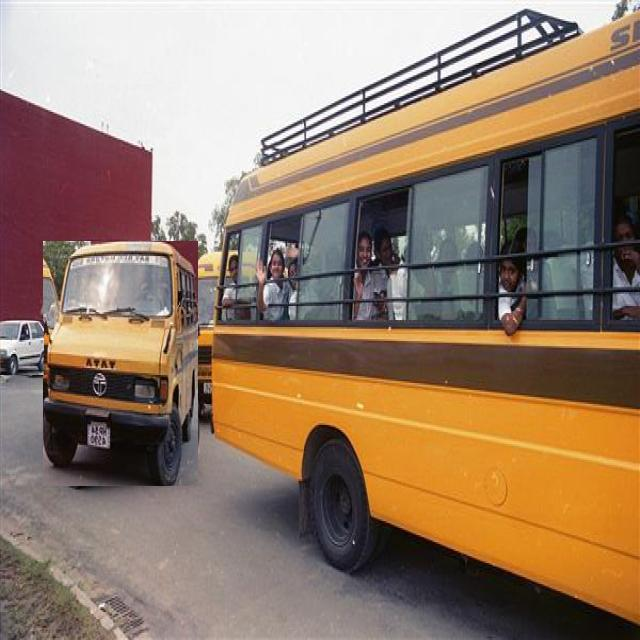bus: (215, 12, 640, 622), (44, 242, 198, 486), (184, 252, 221, 411)
car: (0, 322, 44, 375)
